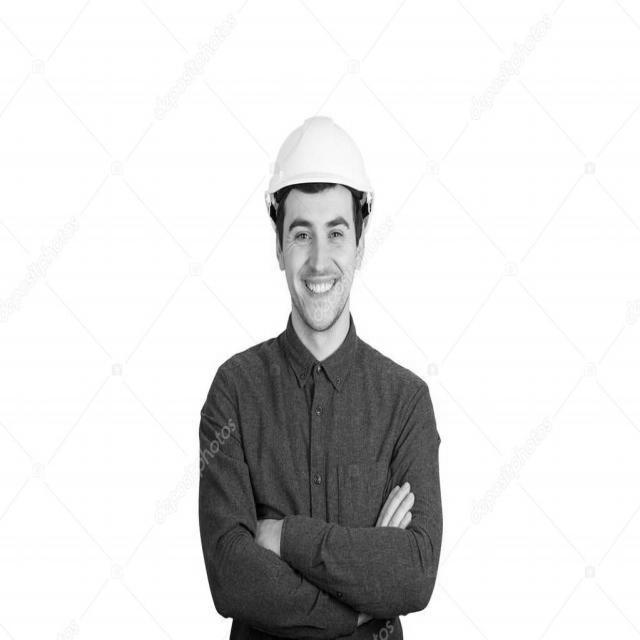construction helmet: (265, 117, 374, 221)
